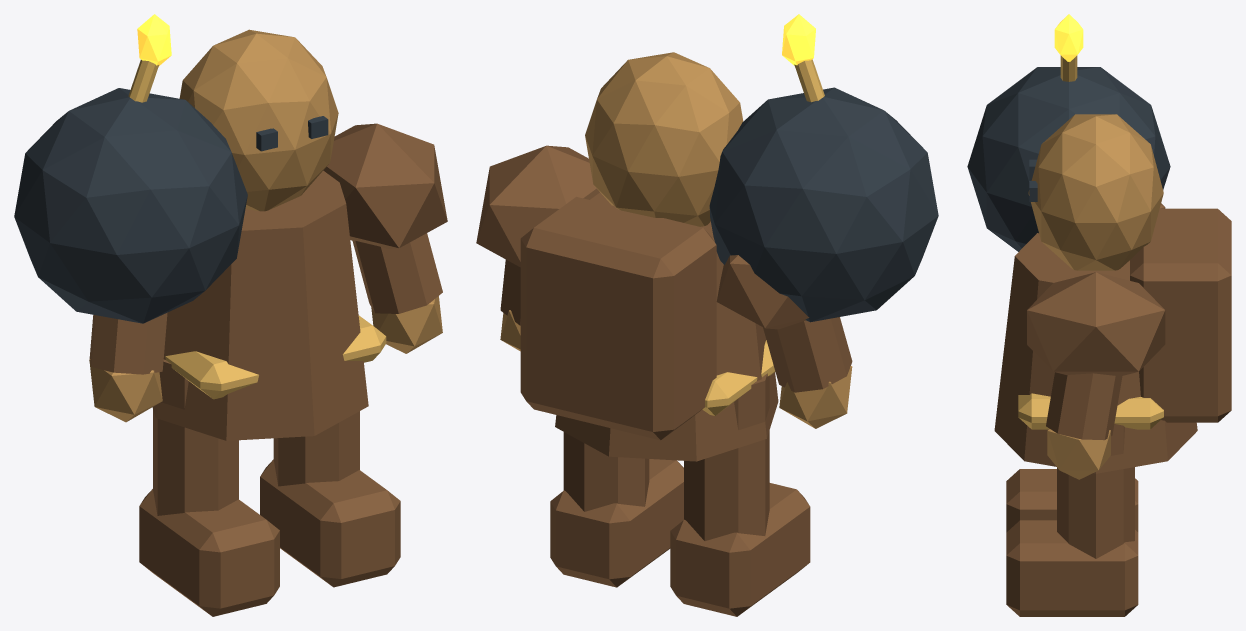
File: lobber.glb
3 renders of one model, left to right at view 1: azimuth 30°, elevation 25°; view 2: azimuth 150°, elevation 25°; view 3: azimuth 270°, elevation 25°, orthographic. The views are drawn at different scales.
Parts seen in each view (by area): view 1: lobber; view 2: lobber; view 3: lobber.
Part boxes in pixels (x1=…): lobber: x1=14, y1=14, x2=447, y2=616; lobber: x1=476, y1=14, x2=938, y2=616; lobber: x1=967, y1=14, x2=1231, y2=616.
Bounding box in the file's own units: 1.24 × 1.68 × 0.78.
